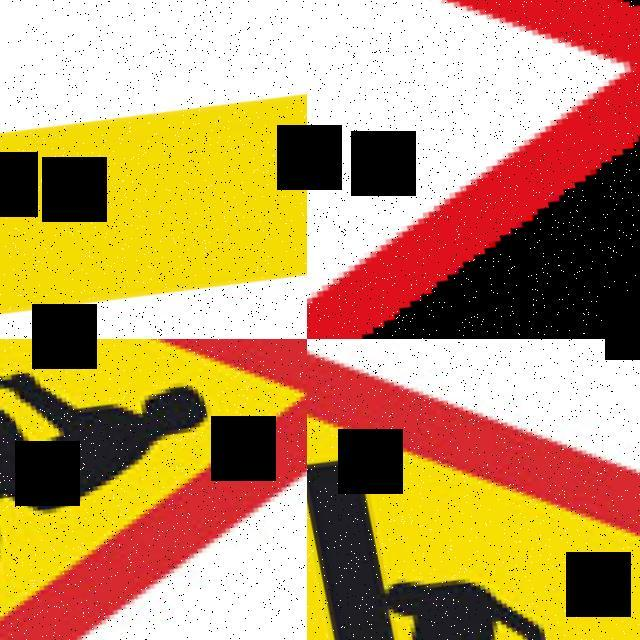161: (307, 339, 640, 640)
4: (0, 24, 307, 339)
Cyclist and mopeds rides on carrigeway: (0, 339, 307, 640)
Dangerous shoulder: (307, 339, 640, 640)
Dip: (307, 0, 640, 339)
two way traffic: (307, 339, 640, 640)
